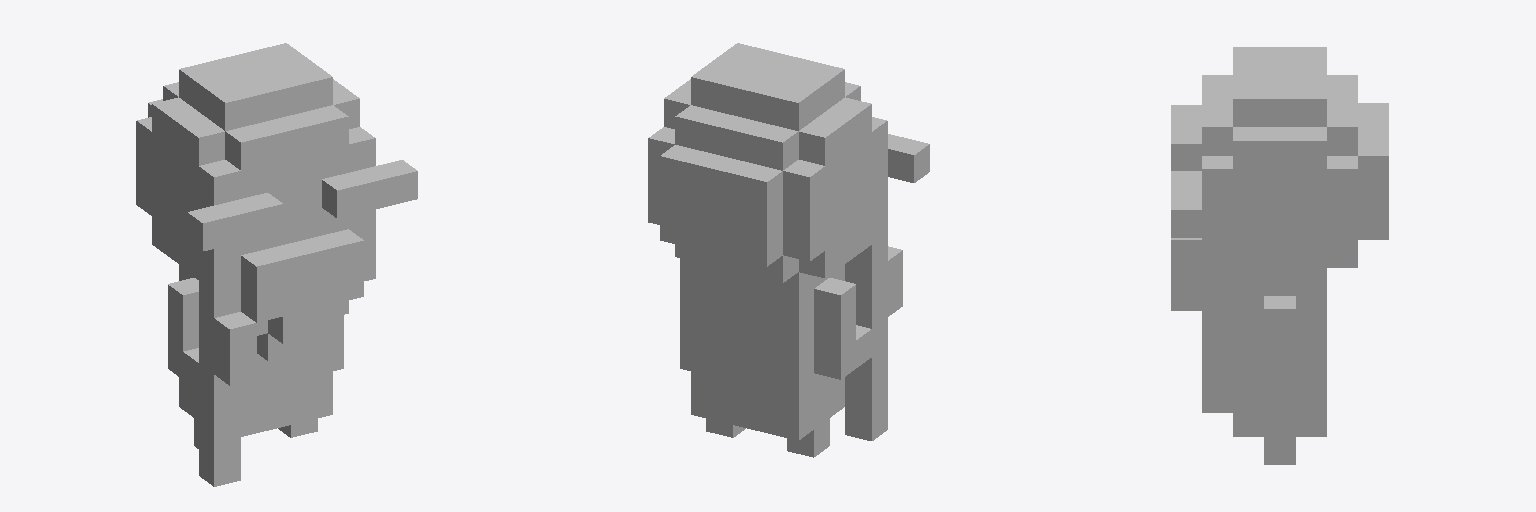
The model's file is mage.obj.
The picture shows the model from 3 angles: view 1: azimuth 30°, elevation 25°; view 2: azimuth 150°, elevation 25°; view 3: azimuth 270°, elevation 25°; orthographic projection.
Bounding box in the file's own units: 8 × 13 × 7.